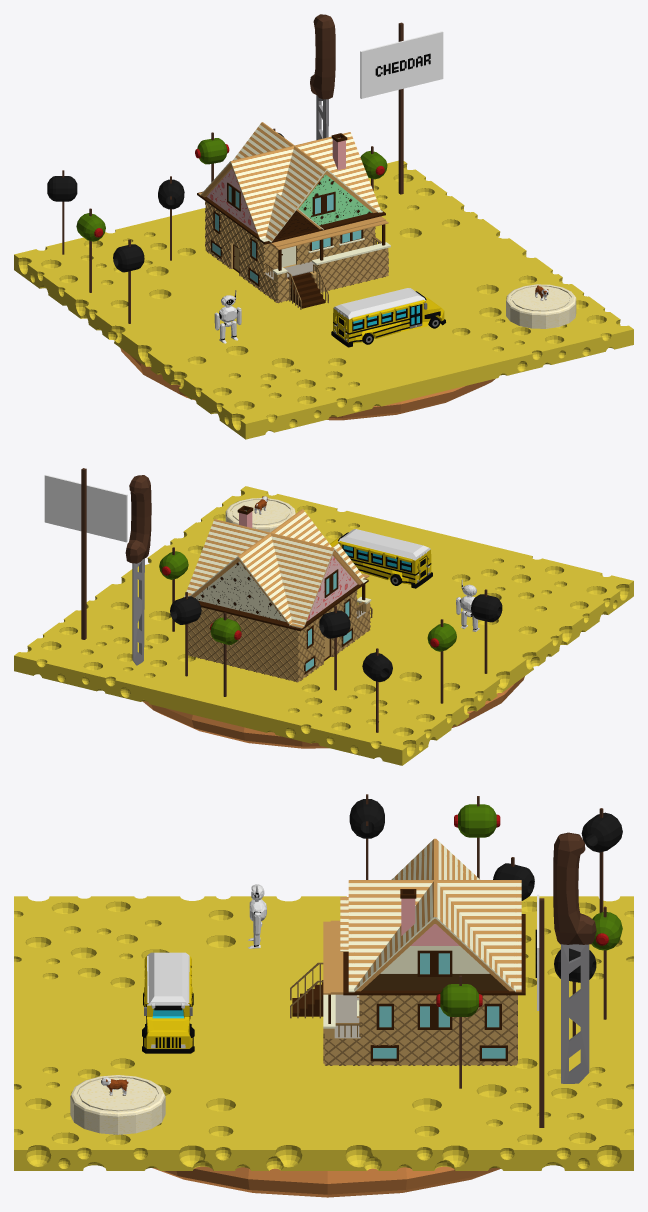
3 renders of one model, top to bottom at view 1: azimuth 30°, elevation 25°; view 2: azimuth 150°, elevation 25°; view 3: azimuth 270°, elevation 25°, orthographic. The views are drawn at different scales.
Visible parts, largest first — view 1: Cube.022, Cube.1102, Cube.023, VEHICLES_SCHOOL_BUS, Cylinder.016, Cube.024, UNDERGROUND_PIZZA, Sphere.017, Sphere.016, OBJRANDOM_PLATZEEBOT, Sphere.018, Sphere.022 (+2 smaller); view 2: Cube.022, Cube.1102, Cube.023, VEHICLES_SCHOOL_BUS, Cube.024, UNDERGROUND_PIZZA, Cylinder.016, Sphere.017, Sphere.022, Sphere.020, Sphere.021, Sphere.018 (+3 smaller); view 3: Cube.022, Cube.1102, Cube.024, UNDERGROUND_PIZZA, VEHICLES_SCHOOL_BUS, Cylinder.016, Cube.023, Sphere.016, Sphere.019, Sphere.018, Sphere.017, Sphere.022 (+3 smaller).
Part boxes in pixels (x1,y1,x2,y2): Cube.022: (14,160,633,439); Cube.1102: (197,122,390,309); Cube.023: (360,22,443,194); VEHICLES_SCHOOL_BUS: (331,288,445,347); Cylinder.016: (506,284,576,328); Cube.024: (310,14,335,139); UNDERGROUND_PIZZA: (120,348,495,420); Sphere.017: (113,239,144,323); Sphere.016: (47,170,77,254); OBJRANDOM_PLATZEEBOT: (214,290,241,343); Sphere.018: (76,208,105,292); Sphere.022: (195,132,229,181); Cube.022: (14,486,633,765); Cube.1102: (183,505,372,682); Cube.023: (44,468,127,639); VEHICLES_SCHOOL_BUS: (330,529,432,588); Cube.024: (125,475,151,665); UNDERGROUND_PIZZA: (143,676,524,748); Cylinder.016: (225,498,295,532); Sphere.017: (471,589,502,673); Sphere.022: (210,612,241,696); Sphere.020: (319,606,350,690); Sphere.021: (170,592,201,676); Sphere.018: (427,619,456,703); Cube.022: (14,896,633,1170); Cube.1102: (290,838,525,1065); Cube.024: (553,832,596,1083); UNDERGROUND_PIZZA: (152,1166,500,1197); VEHICLES_SCHOOL_BUS: (142,952,194,1053); Cylinder.016: (70,1075,165,1134); Cube.023: (535,894,544,1127); Sphere.016: (581,808,622,912); Sphere.019: (436,975,482,1088); Sphere.018: (454,796,500,878); Sphere.017: (349,794,384,879); Sphere.022: (591,906,622,1019).
Size of the model in its own units: 3917 by 2219 by 4000.
43 materials, 4 textured.
